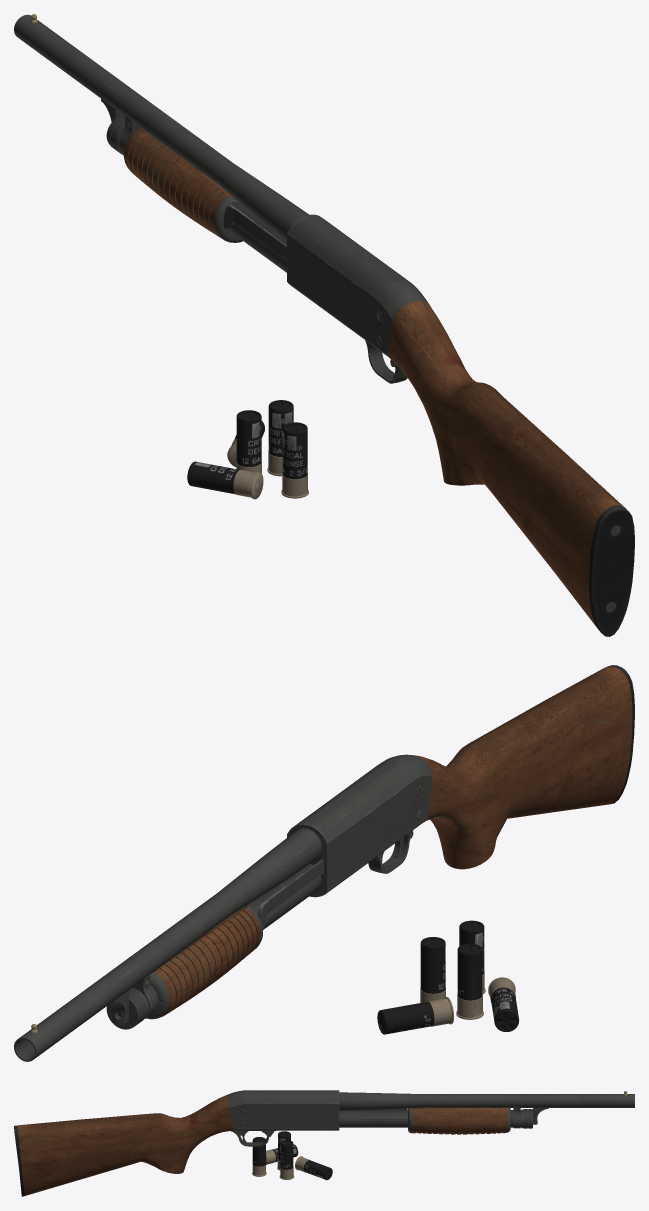
The model's file is ithaca_model_37_riot_shotgun.glb.
3 views of the same model, one above another, from view 1: azimuth 30°, elevation 25°; view 2: azimuth 150°, elevation 25°; view 3: azimuth 270°, elevation 25° (orthographic). The views are drawn at different scales.
Visible parts, largest first — view 1: Ithaca_37; view 2: Ithaca_37; view 3: Ithaca_37.
Boxes of the visible parts, left/top/right/bottom form: Ithaca_37: left=14, top=14, right=634, bottom=636; Ithaca_37: left=14, top=665, right=634, bottom=1061; Ithaca_37: left=14, top=1090, right=634, bottom=1196.
Size of the model in its own units: 1.56 by 1.57 by 8.36.
Materials: 2 (2 with a texture image).
